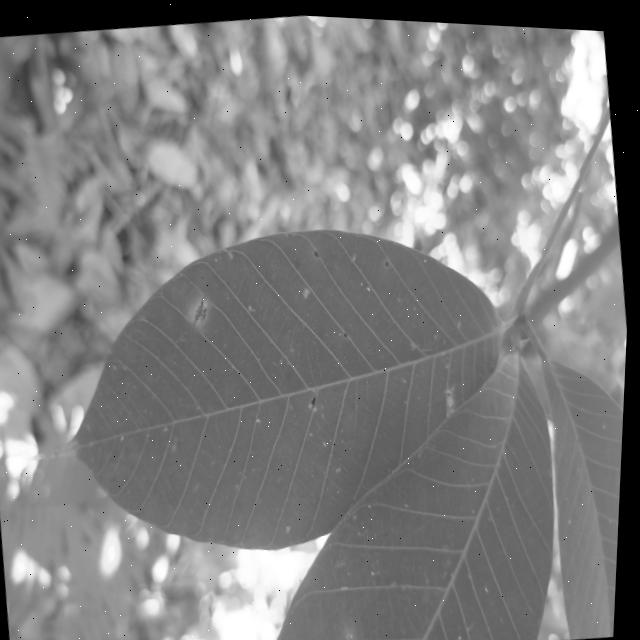Colletotrichum: (385, 256, 390, 262), (346, 329, 349, 333)
Corynespora: (192, 293, 213, 323)
